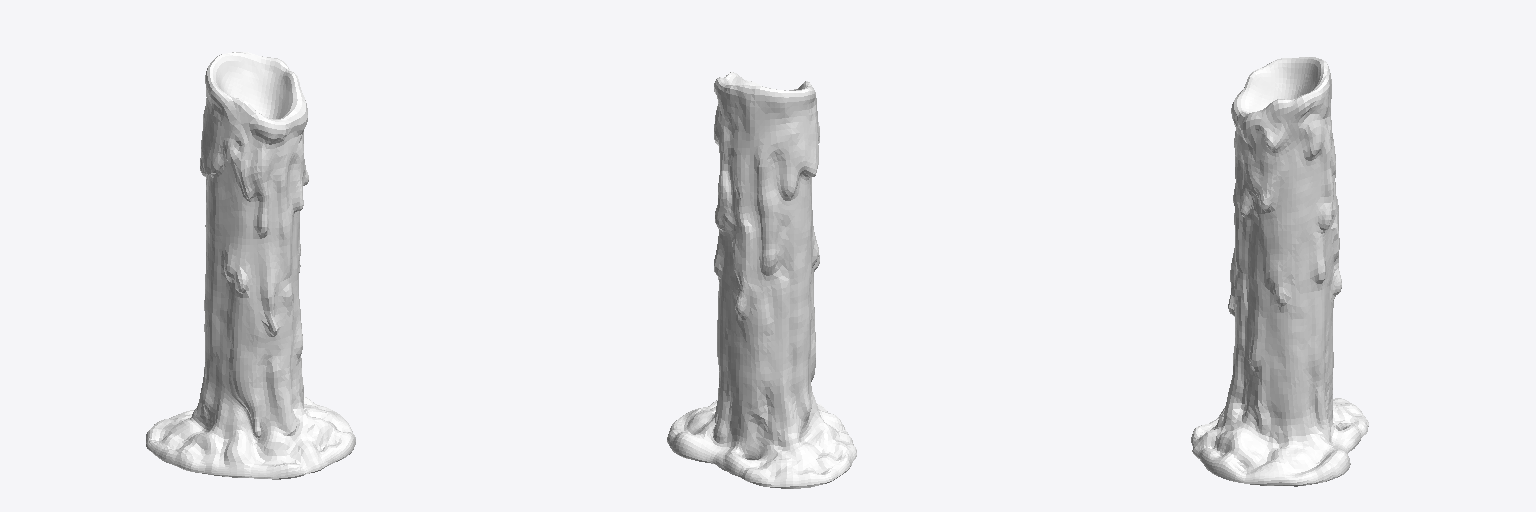
The model's file is candle_4.obj.
3 views of the same model, side by side, from view 1: azimuth 30°, elevation 25°; view 2: azimuth 150°, elevation 25°; view 3: azimuth 270°, elevation 25° (orthographic).
Parts seen in each view (by area): view 1: candle_2.003; view 2: candle_2.003; view 3: candle_2.003.
Boxes of the visible parts, x1=… form: candle_2.003: x1=146, y1=52, x2=355, y2=479; candle_2.003: x1=667, y1=72, x2=856, y2=488; candle_2.003: x1=1191, y1=57, x2=1368, y2=486.
Size of the model in its own units: 0.1353 by 0.2797 by 0.1192.